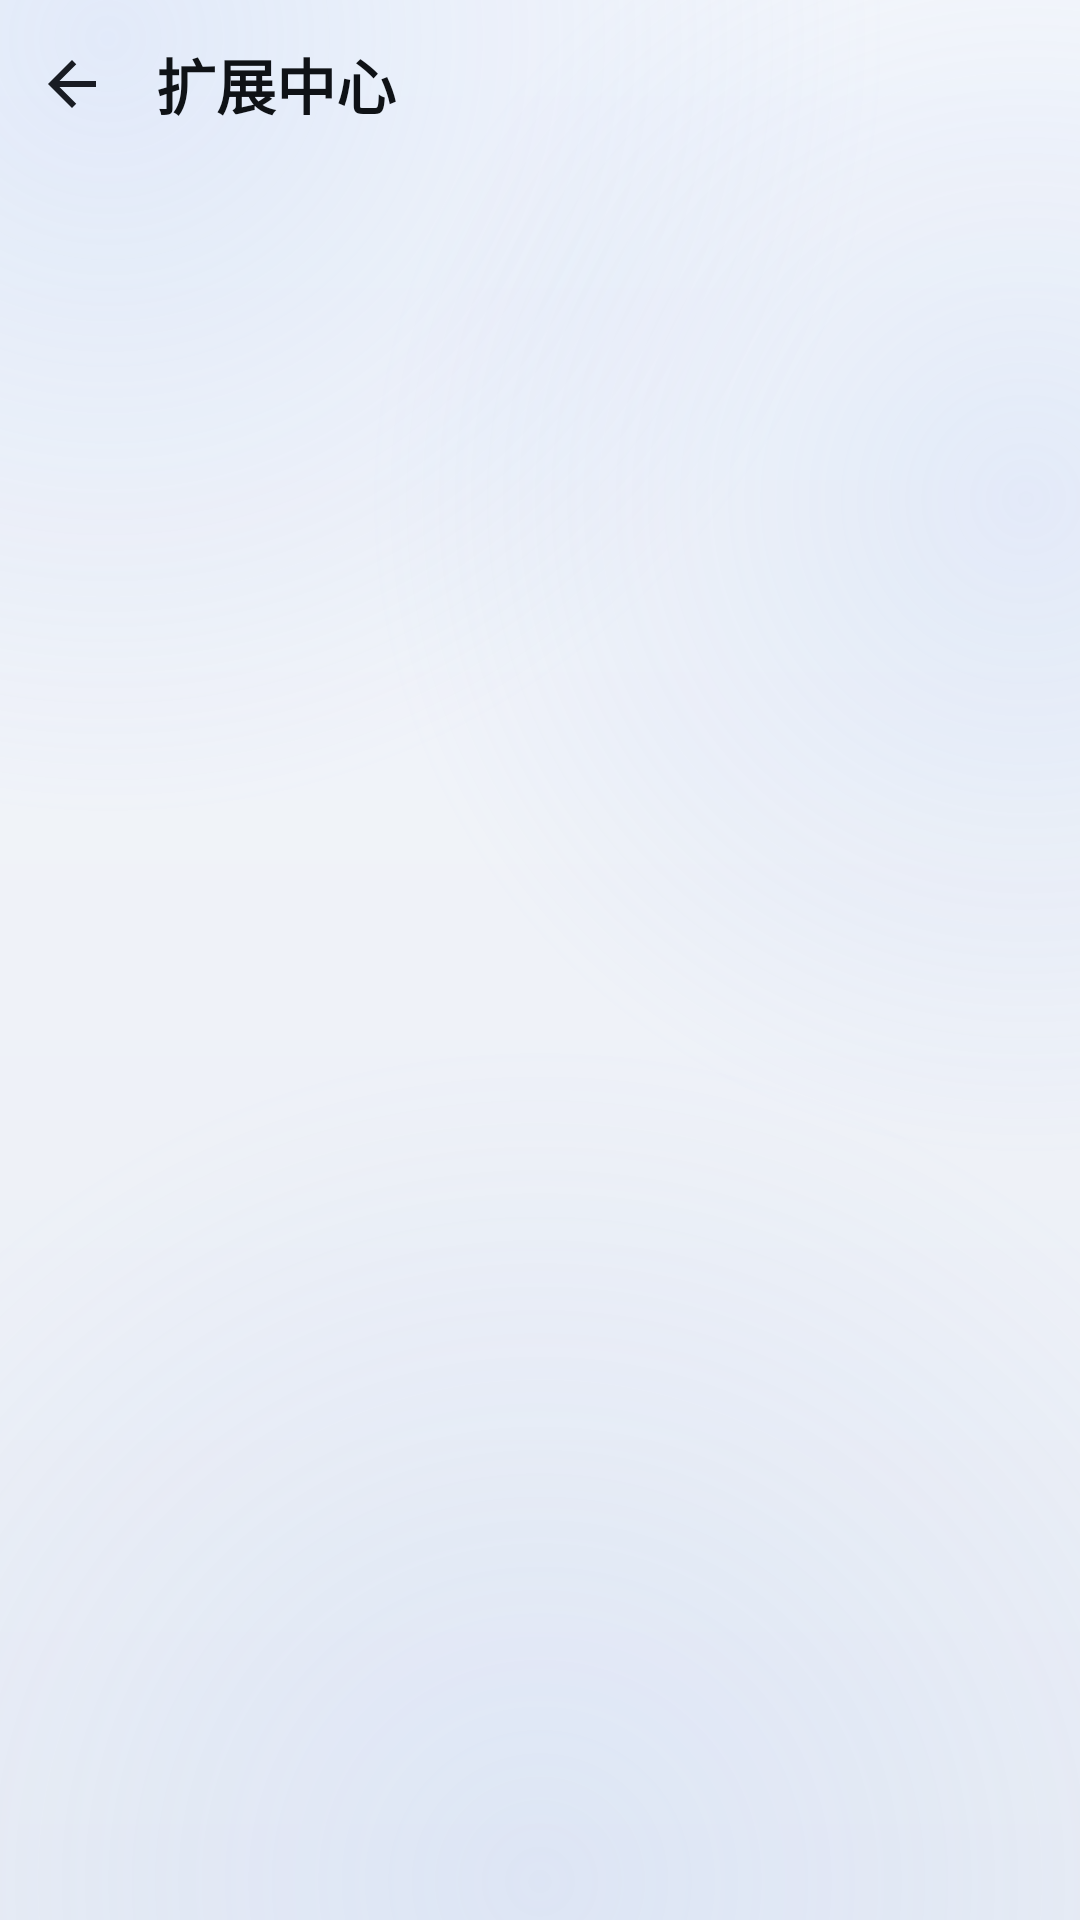

Locate icon controls on the screen. Image size 1080x1920, boxes as (x1, y1, x2, y2).
返回: (48, 60, 96, 108)
